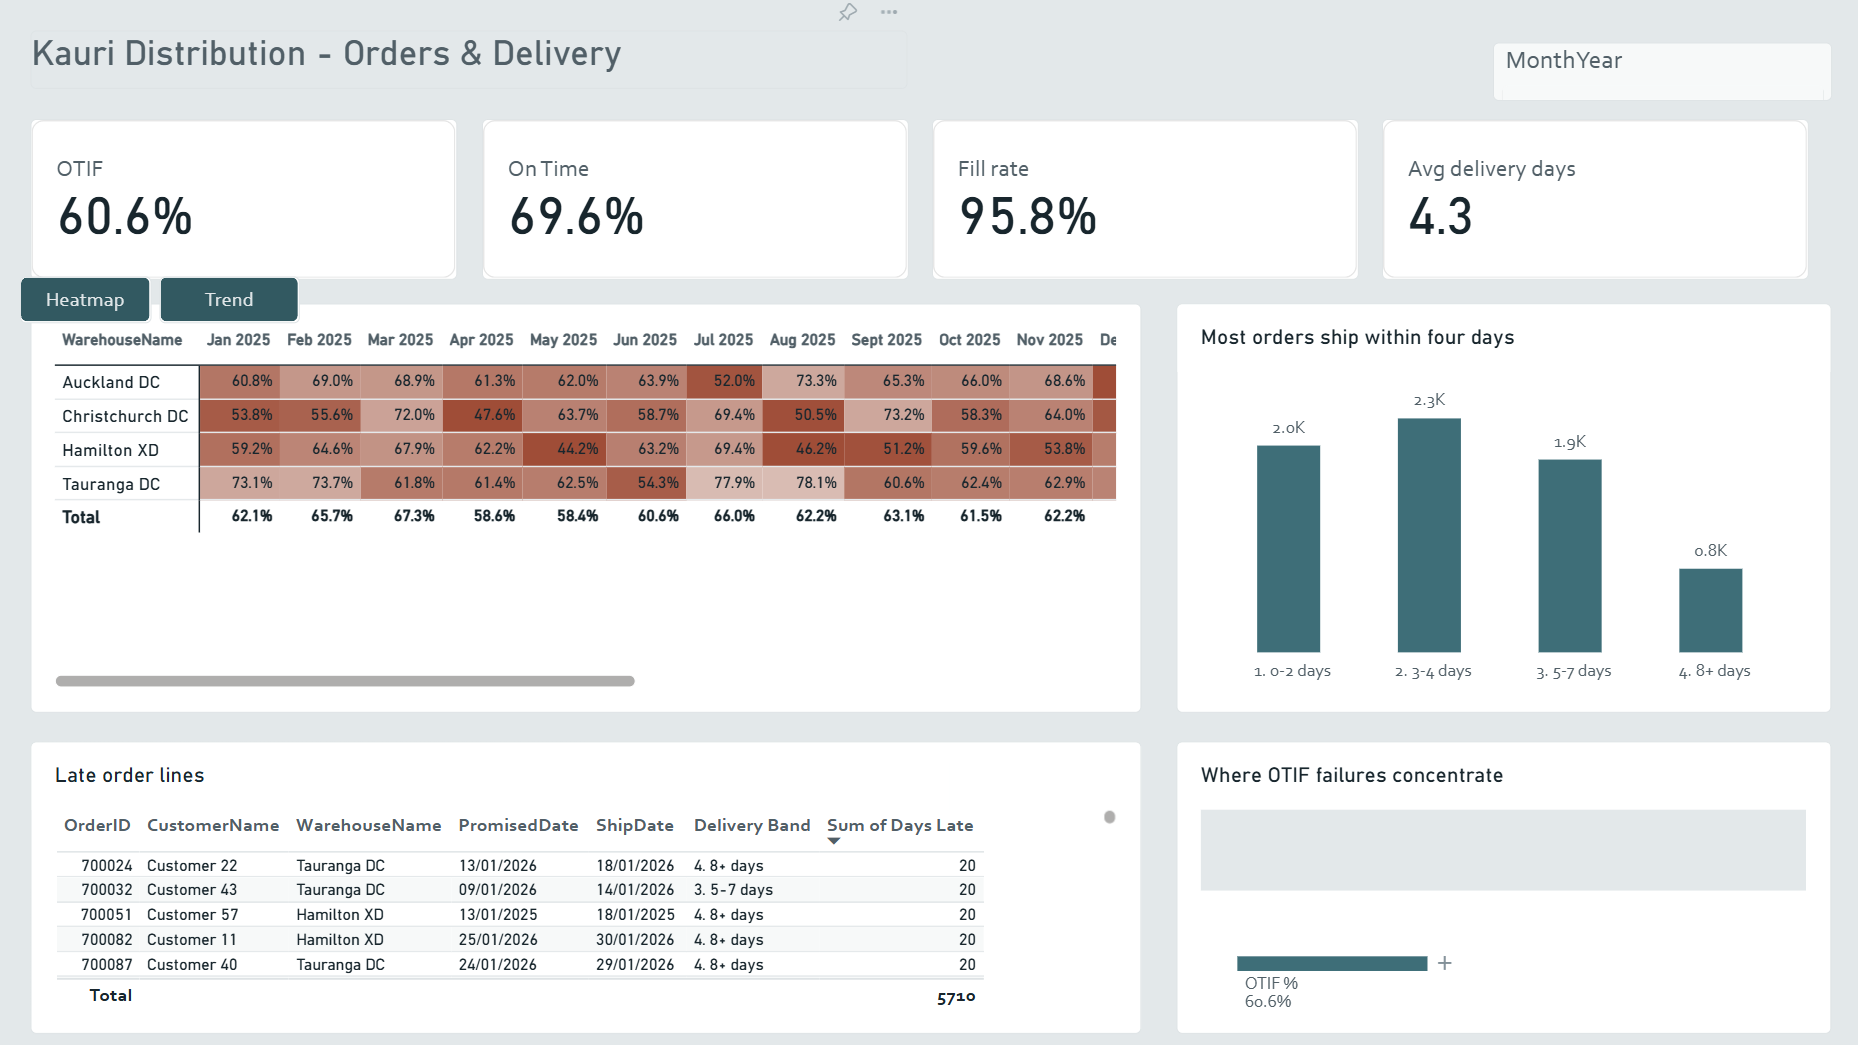

The dashboard page shown, as its layout file describes it:
{"tool":"powerbi","page":{"name":"Orders & Delivery","canvas":[1280,720],"ordinal":3},"visuals":[{"type":"textbox","box":[24,24,600,40],"z":0},{"type":"cardVisual","fields":{"Data":["_Measures.OTIF %"]},"box":[24,84,292,110],"z":1000},{"type":"cardVisual","fields":{"Data":["_Measures.On Time %"]},"box":[332,84,292,110],"z":2000},{"type":"cardVisual","fields":{"Data":["_Measures.Fill Rate %"]},"box":[640,84,292,110],"z":3000},{"type":"cardVisual","fields":{"Data":["_Measures.Avg Delivery Days"]},"box":[948,84,292,110],"z":4000},{"type":"pivotTable","fields":{"Columns":["DimDate.MonthYear"],"Rows":["DimWarehouse.WarehouseName"],"Values":["_Measures.OTIF %"]},"box":[24,210,760,280],"z":5000},{"type":"clusteredColumnChart","title":"Most orders ship within four days","fields":{"Category":["FactOrders.Delivery Band"],"Y":["_Measures.Order Lines"]},"box":[808,210,448,280],"z":6000},{"type":"tableEx","title":"Late order lines","fields":{"Values":["FactOrders.OrderID","DimCustomer.CustomerName","DimWarehouse.WarehouseName","FactOrders.PromisedDate","FactOrders.ShipDate","FactOrders.Delivery Band","Sum(FactOrders.Days Late)"]},"box":[24,510,760,200],"z":7000},{"type":"decompositionTreeVisual","title":"Where OTIF failures concentrate","fields":{"Analyze":["_Measures.OTIF %"],"ExplainBy":["DimDate.MonthYear","DimWarehouse.WarehouseName","DimChannel.Channel","DimProduct.Category"]},"box":[808,510,448,200],"z":8000},{"type":"slicer","fields":{"Values":["DimDate.MonthYear"]},"box":[1024,32,232,40],"z":9000},{"type":"actionButton","box":[16,192,90,32],"z":11000},{"type":"actionButton","box":[112,192,96,32],"z":11001}]}

Visuals, with their boxes in screenshot pixels (x1, y1, x2, y2), scaled from the page's 1280x720 canvas onto the 1858x1045 screenshot:
textbox: <bbox>35, 35, 906, 93</bbox>
cardVisual - _Measures.OTIF %: <bbox>35, 122, 459, 282</bbox>
cardVisual - _Measures.On Time %: <bbox>482, 122, 906, 282</bbox>
cardVisual - _Measures.Fill Rate %: <bbox>929, 122, 1353, 282</bbox>
cardVisual - _Measures.Avg Delivery Days: <bbox>1376, 122, 1800, 282</bbox>
pivotTable - DimDate.MonthYear x DimWarehouse.WarehouseName: <bbox>35, 305, 1138, 711</bbox>
"Most orders ship within four days" clusteredColumnChart: <bbox>1173, 305, 1823, 711</bbox>
"Late order lines" tableEx: <bbox>35, 740, 1138, 1030</bbox>
"Where OTIF failures concentrate" decompositionTreeVisual: <bbox>1173, 740, 1823, 1030</bbox>
slicer - DimDate.MonthYear: <bbox>1486, 46, 1823, 104</bbox>
actionButton: <bbox>23, 279, 154, 325</bbox>
actionButton: <bbox>163, 279, 302, 325</bbox>
